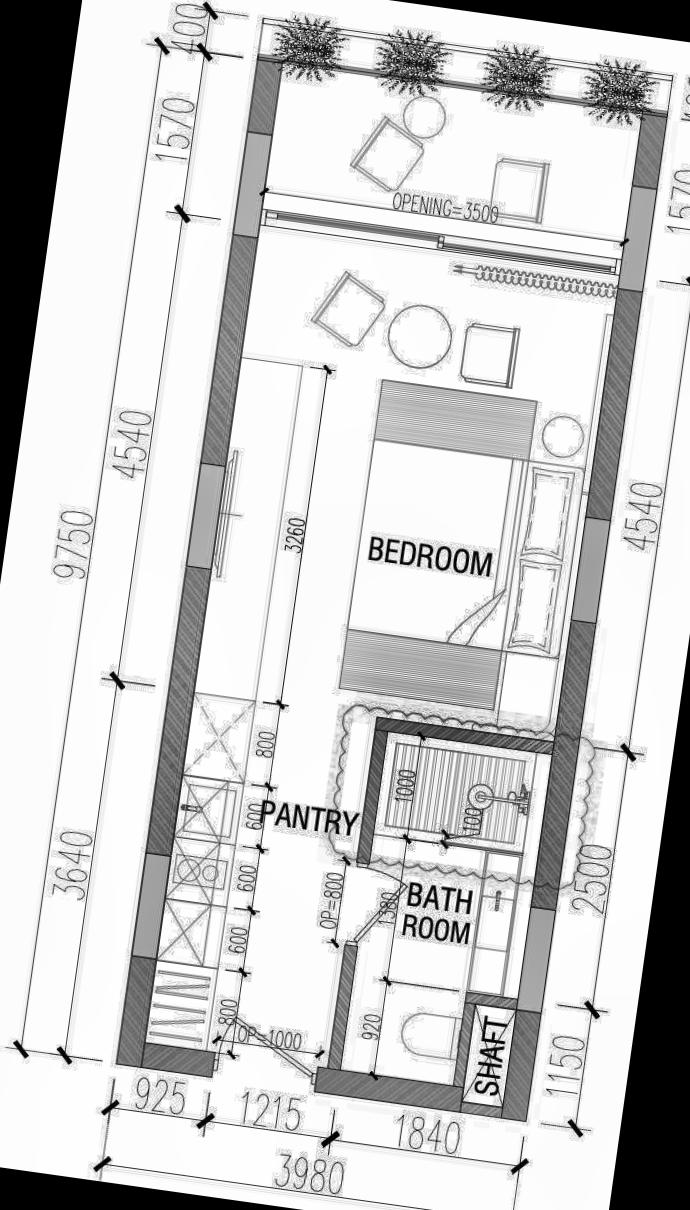door: (202, 1002, 326, 1092), (324, 856, 412, 959)
window: (255, 191, 627, 288)
